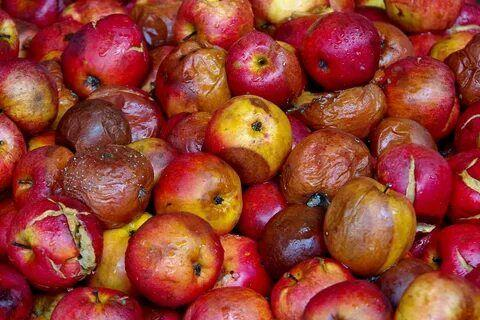Apple: (324, 177, 418, 278), (124, 212, 222, 306), (9, 197, 103, 290), (203, 94, 291, 182), (61, 145, 150, 228), (63, 18, 149, 90), (299, 88, 385, 128)
